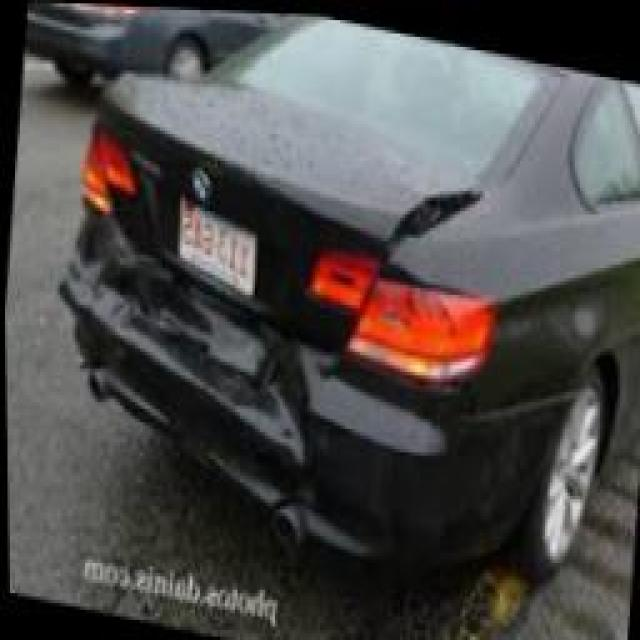Bumper: (50, 213, 326, 500)
